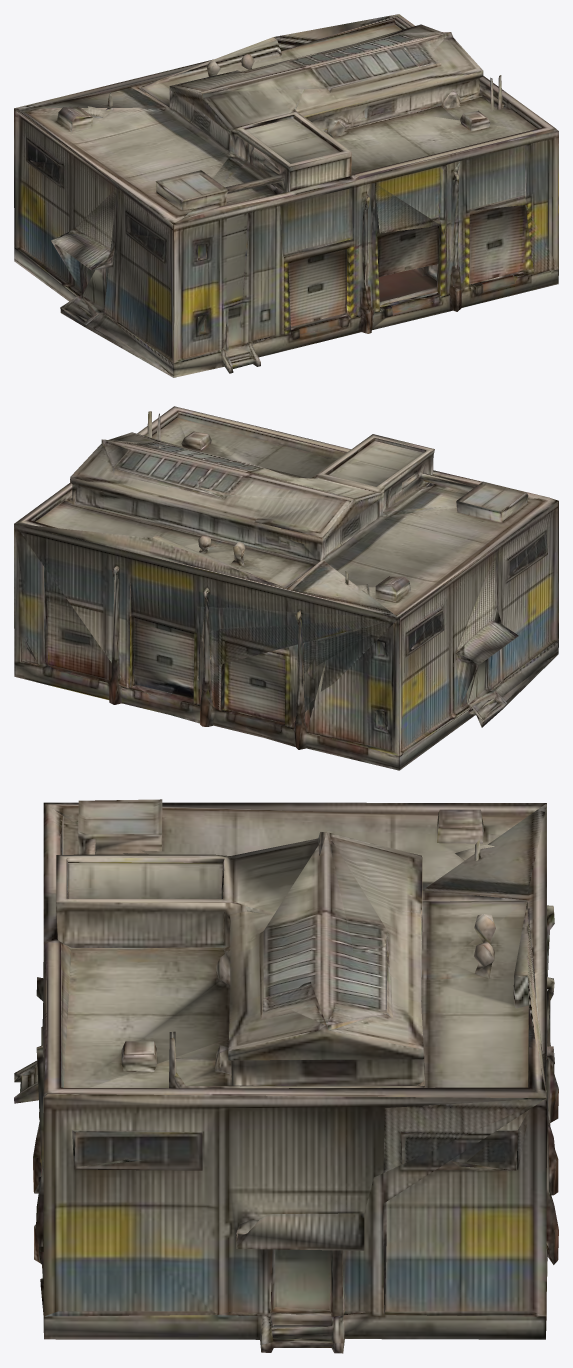
File: warehouse.glb
The picture shows the model from 3 angles, top to bottom: view 1: azimuth 30°, elevation 25°; view 2: azimuth 150°, elevation 25°; view 3: azimuth 270°, elevation 25°; orthographic projection. The views are drawn at different scales.
Visible parts, largest first — view 1: Mesh_0; view 2: Mesh_0; view 3: Mesh_0.
Part boxes in pixels (x1,y1,x2,y2): Mesh_0: (14,14,558,377); Mesh_0: (14,406,558,770); Mesh_0: (14,799,558,1353).
Bounding box in the file's own units: 1.9 × 0.8272 × 1.33.
1 material, 1 textured.
